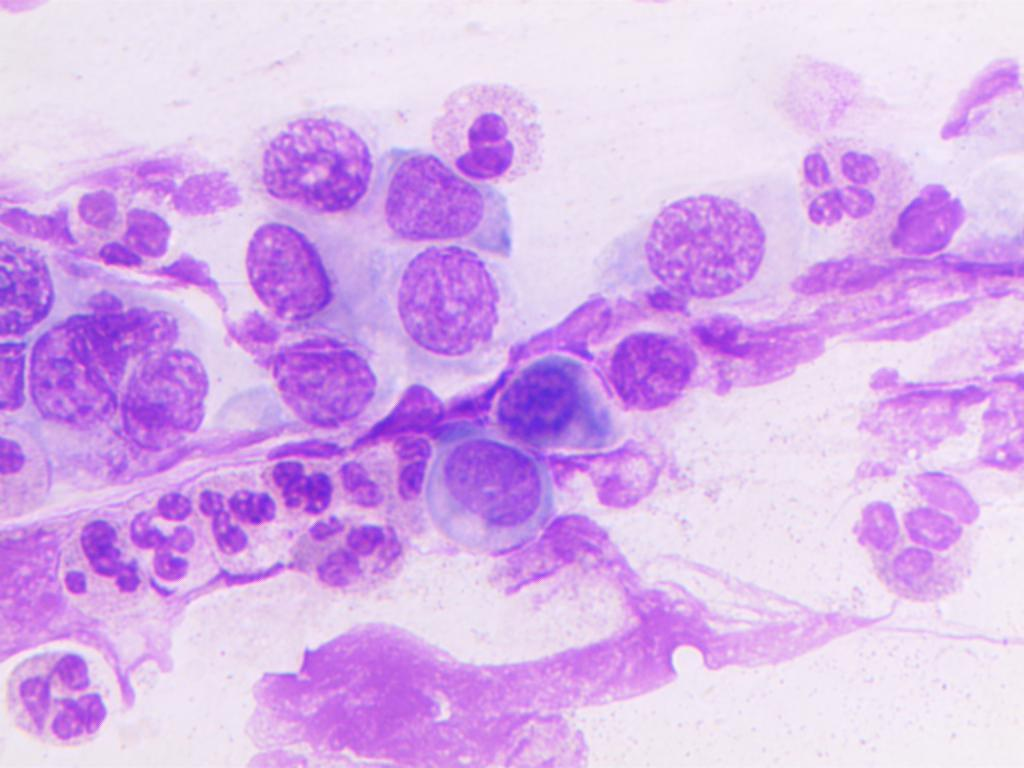artifact: (223, 596, 869, 768), (490, 507, 682, 643), (857, 340, 1024, 479)
epithelial: (593, 176, 798, 297), (30, 286, 187, 433), (231, 104, 381, 218), (392, 233, 523, 360), (377, 147, 521, 254), (269, 336, 382, 432), (119, 348, 220, 451), (601, 333, 703, 416), (0, 230, 56, 336)
goblet_cell: (232, 212, 389, 318)
lymphocyte: (423, 436, 547, 567), (481, 349, 626, 446)
neutrophil: (851, 460, 988, 608), (29, 176, 173, 283), (424, 80, 544, 181), (7, 648, 117, 753), (46, 505, 142, 618), (785, 138, 903, 228), (189, 468, 284, 578), (338, 410, 436, 512), (286, 518, 411, 596), (267, 442, 380, 522), (133, 492, 210, 602), (874, 179, 979, 259)
